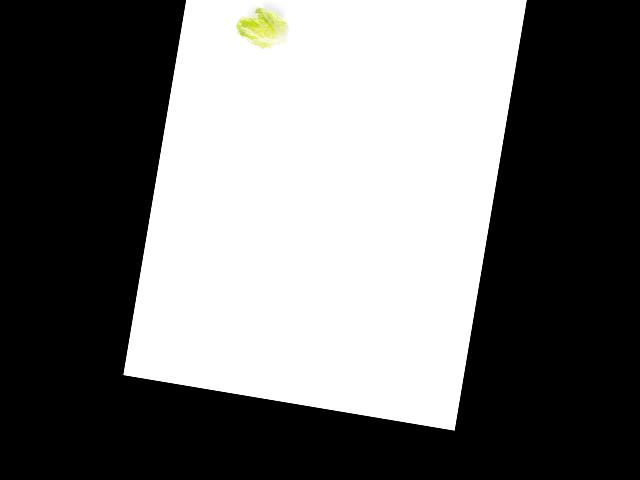lettuce: (230, 2, 297, 55)
